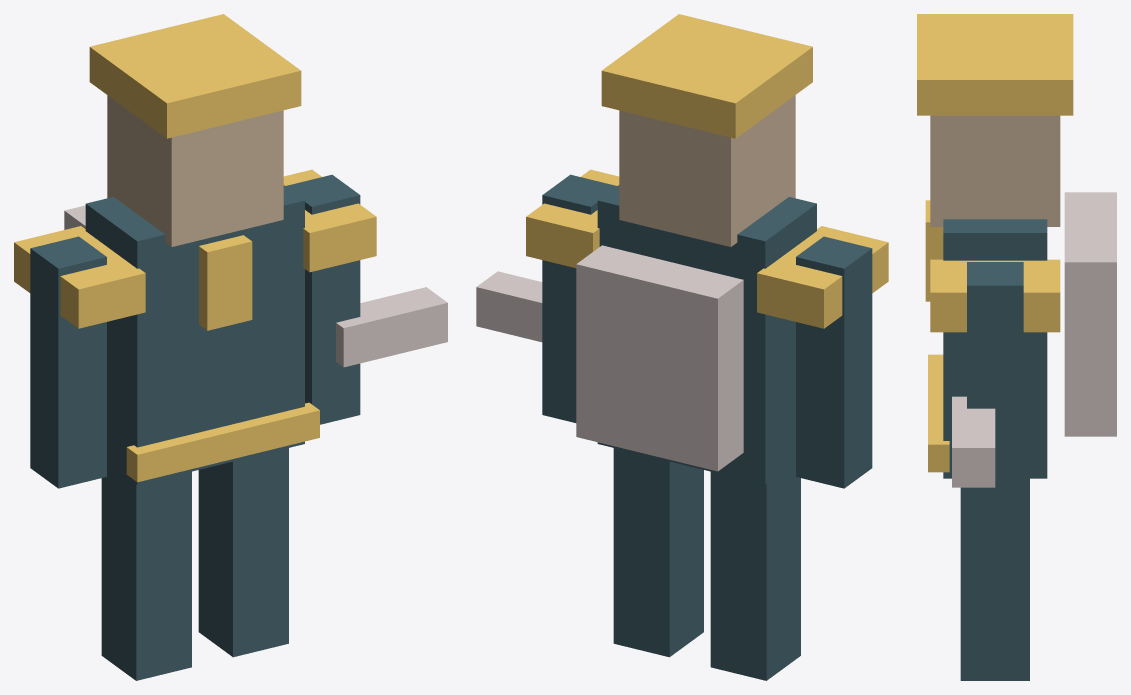
File: 09_keir_starfall_diver_at.glb
3 views of the same model, side by side, from view 1: azimuth 30°, elevation 25°; view 2: azimuth 150°, elevation 25°; view 3: azimuth 270°, elevation 25° (orthographic).
Parts seen in each view (by area): view 1: Keir Starfall, Diver at; view 2: Keir Starfall, Diver at; view 3: Keir Starfall, Diver at.
Part boxes in pixels (x1,y1,x2,y2): Keir Starfall, Diver at: (14,14,447,680); Keir Starfall, Diver at: (476,14,888,680); Keir Starfall, Diver at: (917,14,1116,680).
Size of the model in its own units: 1.09 by 1.62 by 0.4907.
